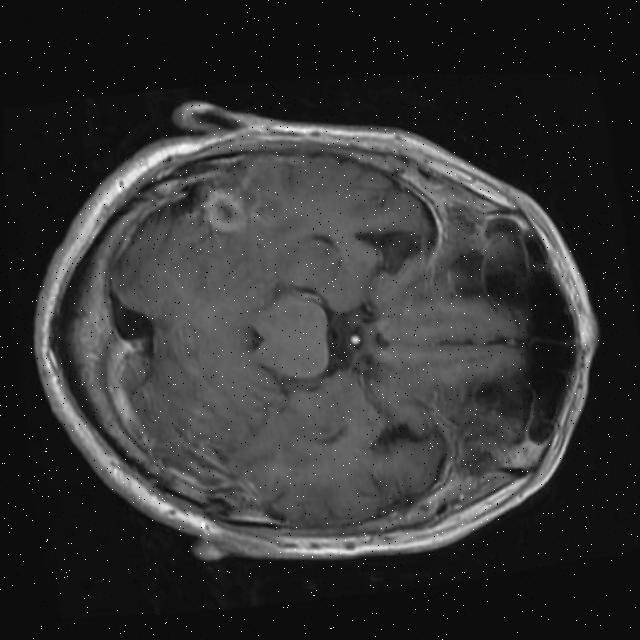Glioma: (198, 186, 249, 237)
